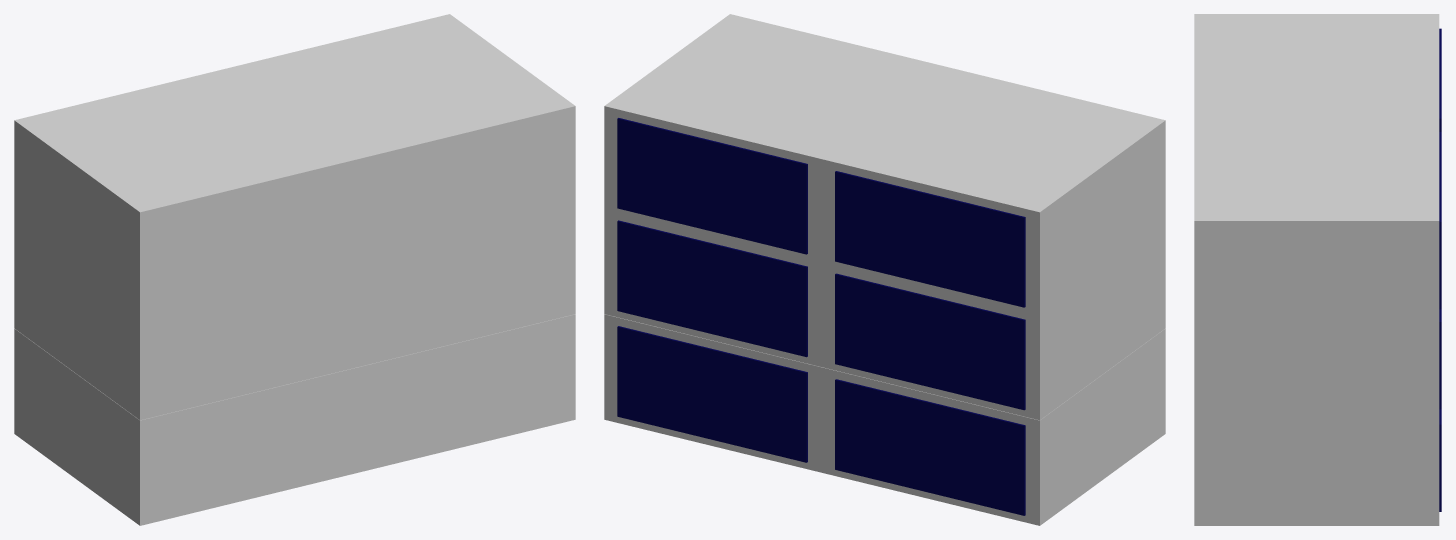
The model's file is cabinetchemestry.fbx.
3 views of the same model, side by side, from view 1: azimuth 30°, elevation 25°; view 2: azimuth 150°, elevation 25°; view 3: azimuth 270°, elevation 25° (orthographic). The views are drawn at different scales.
Parts seen in each view (by area): view 1: cabinet (×6); view 2: cabinet (×6), drawerdoor (×6); view 3: cabinet (×4), drawerdoor (×4).
Part boxes in pixels (x1,y1,x2,y2): cabinet (×6): (14,14,575,525); cabinet (×6): (604,14,1165,525); drawerdoor (×6): (617,118,1025,515); cabinet (×4): (1194,14,1439,525); drawerdoor (×4): (1439,28,1441,511).
Size of the model in its own units: 2 by 1.38 by 1.01.
